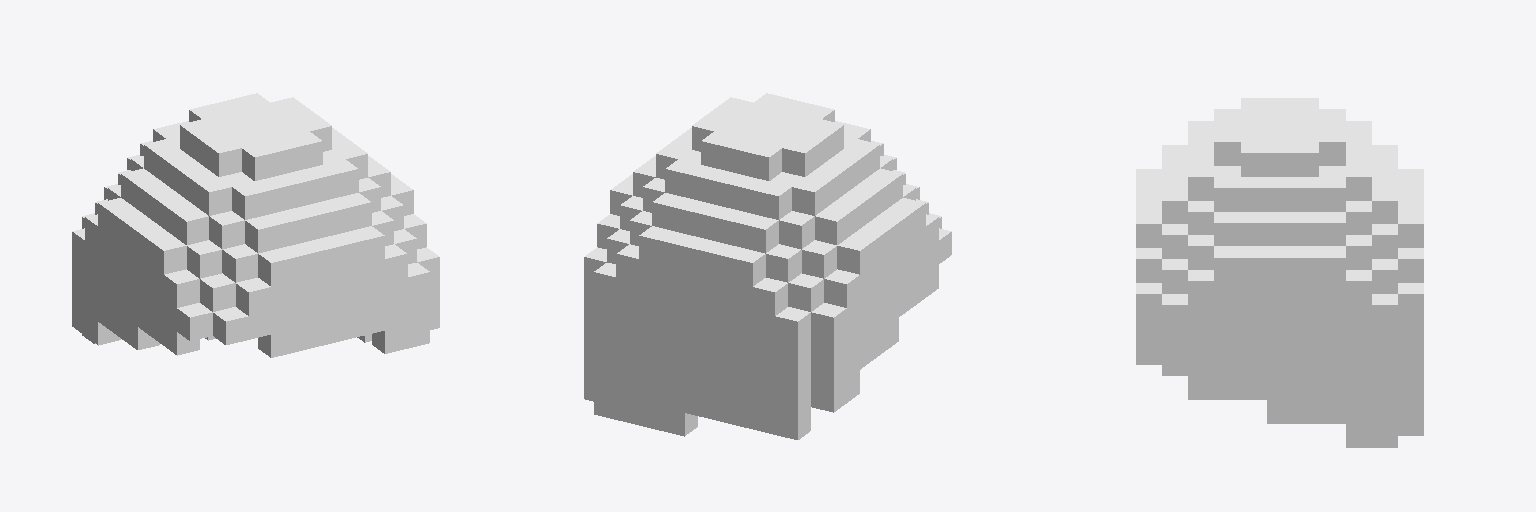
Rendered from egg_zigzag_tophalf.obj.
The picture shows the model from 3 angles: view 1: azimuth 30°, elevation 25°; view 2: azimuth 150°, elevation 25°; view 3: azimuth 270°, elevation 25°; orthographic projection.
Parts seen in each view (by area): view 1: egg_zigzag_tophalf.001; view 2: egg_zigzag_tophalf.001; view 3: egg_zigzag_tophalf.001.
Part boxes in pixels (x1,y1,x2,y2): egg_zigzag_tophalf.001: (72, 93, 439, 357); egg_zigzag_tophalf.001: (584, 93, 951, 439); egg_zigzag_tophalf.001: (1136, 98, 1423, 447).
Bounding box in the file's own units: 1.1 × 1.1 × 1.1.